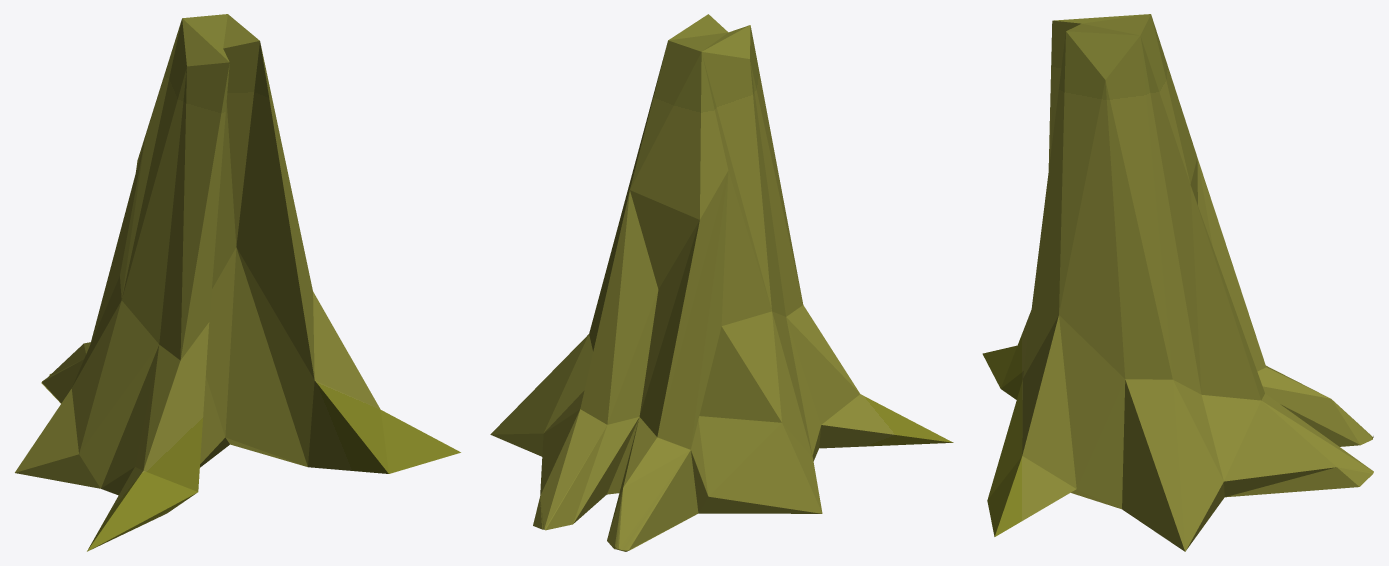
Rendered from YN_Tree2.fbx.
The picture shows the model from 3 angles, left to right: view 1: azimuth 30°, elevation 25°; view 2: azimuth 150°, elevation 25°; view 3: azimuth 270°, elevation 25°; orthographic projection. The views are drawn at different scales.
Parts seen in each view (by area): view 1: YN_Tree2; view 2: YN_Tree2; view 3: YN_Tree2.
Part boxes in pixels (x1=…): YN_Tree2: x1=15, y1=14, x2=460, y2=551; YN_Tree2: x1=490, y1=14, x2=953, y2=551; YN_Tree2: x1=982, y1=14, x2=1373, y2=551.
Bounding box in the file's own units: 6.6 × 7.19 × 5.84.
